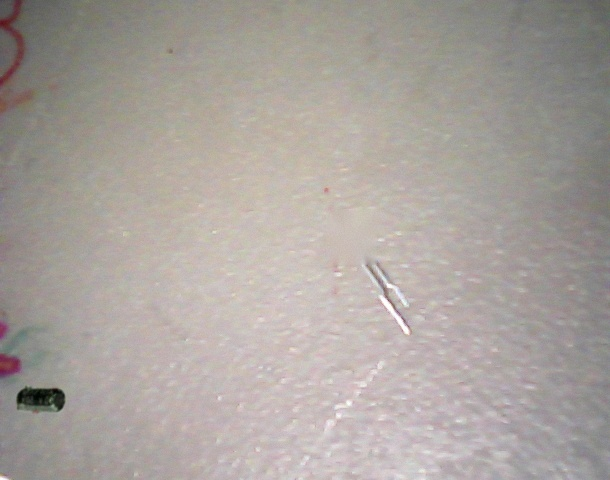capacitor: (16, 385, 66, 413)
